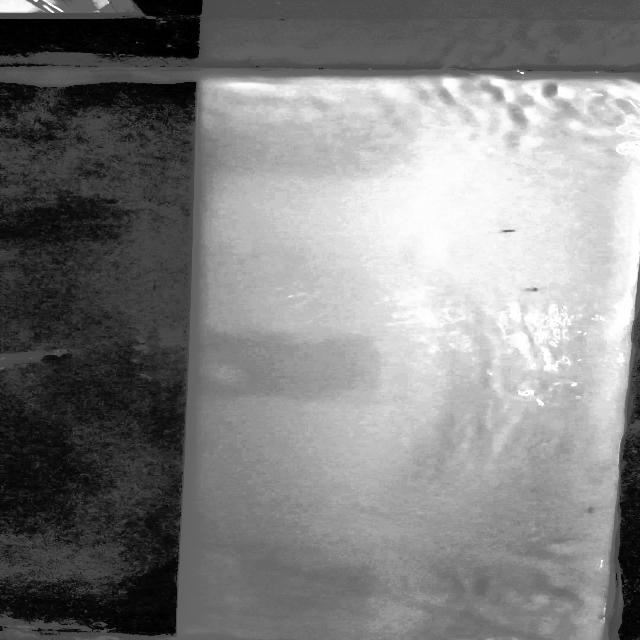shrimp: (478, 219, 527, 241), (512, 281, 554, 302)
